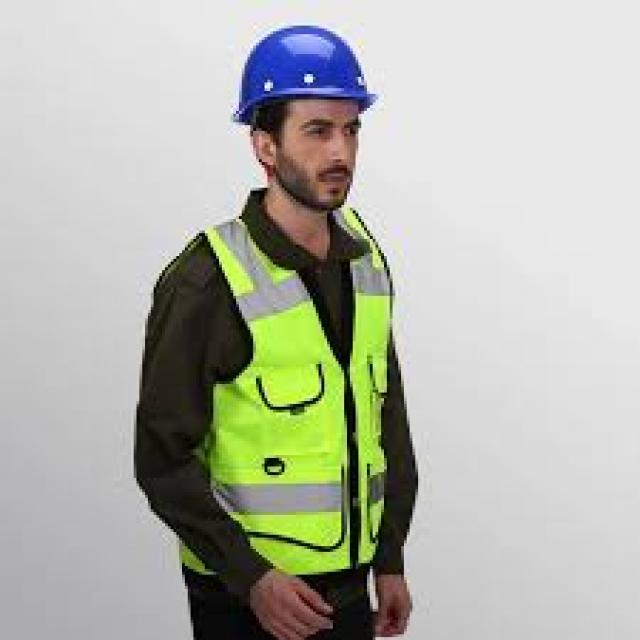Reflective-Jacket: (159, 196, 427, 603)
Safety-Helmet: (222, 20, 387, 131)
